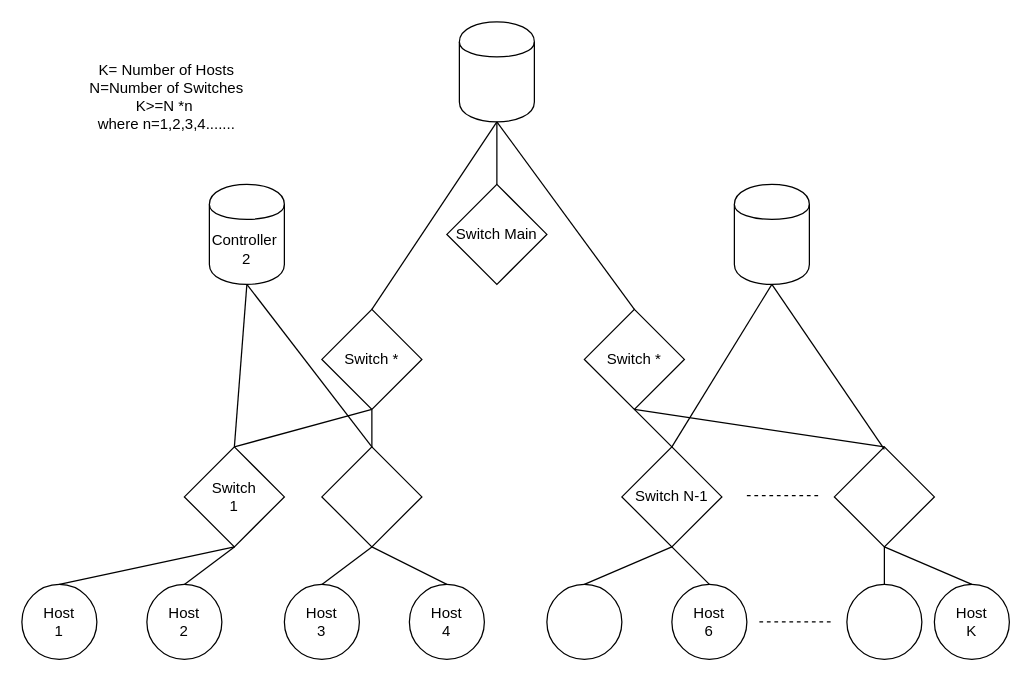
This 1031x681 diagram has some shape labels left out. Each missing label, with the box of its shape:
Controller 1: (458, 21, 534, 122)
Controller 3: (733, 183, 809, 284)
Host 5: (546, 583, 622, 659)
Host K-1: (846, 583, 922, 659)
Switch 2: (321, 446, 422, 547)
Switch N: (833, 446, 934, 547)
